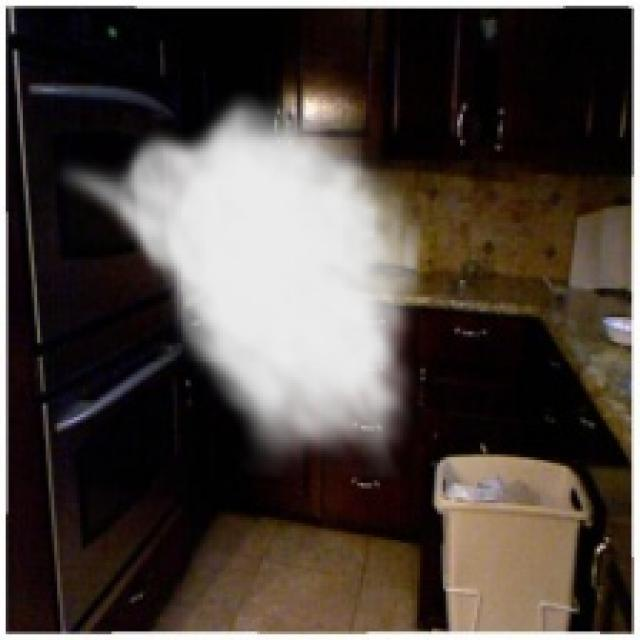Smoke: (51, 86, 432, 480)
